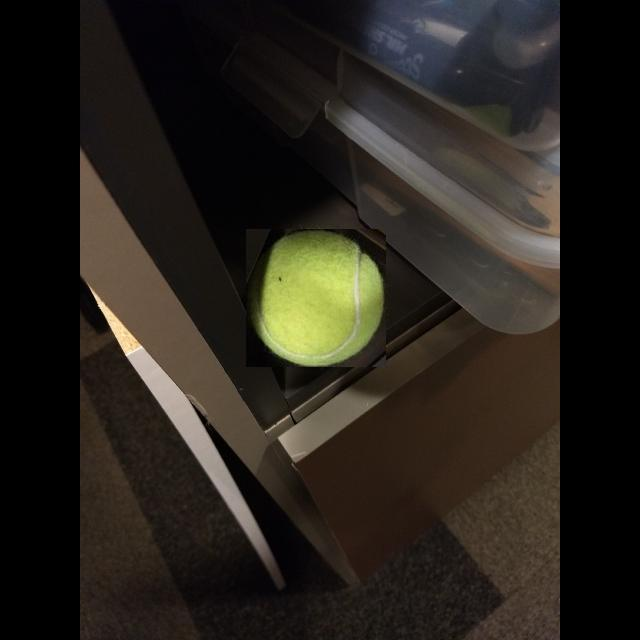tennis ball: (246, 229, 386, 367)
